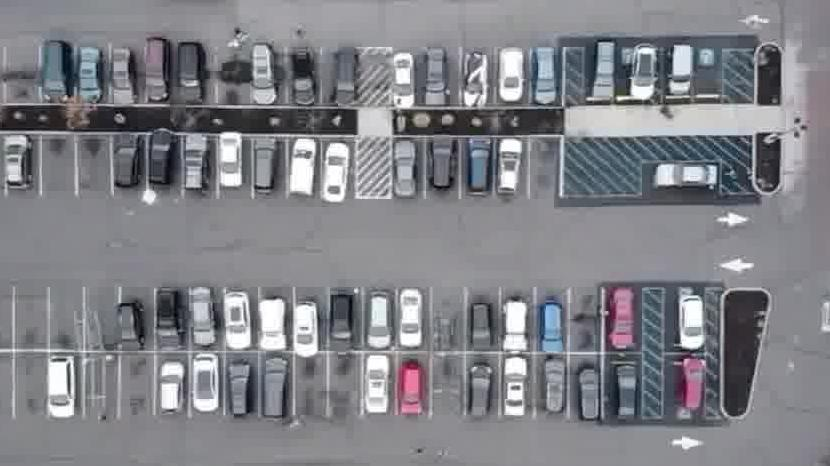car: (358, 286, 400, 348), (358, 354, 396, 421), (45, 357, 80, 427), (38, 38, 74, 103), (170, 44, 205, 109), (316, 141, 351, 206), (646, 158, 717, 190), (137, 41, 168, 110), (110, 130, 146, 189), (502, 359, 535, 423), (259, 363, 291, 429), (187, 354, 221, 416), (490, 138, 523, 201), (146, 127, 179, 190), (223, 360, 255, 423), (326, 292, 357, 357), (328, 49, 359, 113), (284, 137, 317, 197), (286, 300, 320, 358), (151, 288, 182, 351), (158, 359, 189, 422), (249, 137, 281, 198), (607, 284, 637, 349), (397, 284, 426, 349), (249, 43, 277, 110), (466, 363, 497, 423), (396, 357, 427, 417), (256, 298, 288, 356), (623, 42, 656, 98), (222, 293, 252, 354), (388, 143, 417, 205), (1, 134, 32, 192), (425, 140, 455, 199), (463, 138, 492, 199), (498, 300, 529, 357), (495, 42, 524, 102), (419, 50, 448, 110), (575, 364, 603, 426), (666, 39, 697, 95), (177, 138, 206, 197), (680, 355, 709, 414), (588, 42, 617, 100), (71, 50, 100, 108), (116, 301, 146, 357), (613, 361, 640, 423), (677, 291, 705, 350), (528, 44, 555, 105), (287, 49, 313, 112), (390, 55, 417, 115), (191, 286, 216, 350), (460, 53, 488, 110), (540, 358, 567, 417), (217, 129, 243, 190), (538, 301, 567, 354), (107, 50, 132, 111), (468, 304, 492, 357)
